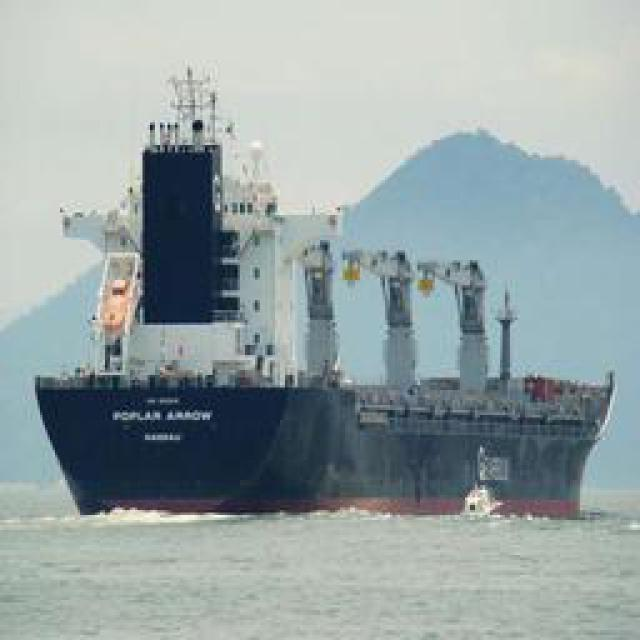Ship: (37, 80, 607, 525)
